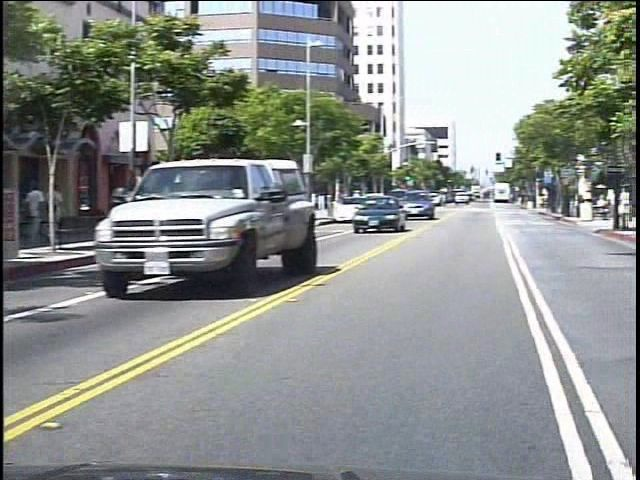person: (35, 178, 57, 243), (53, 181, 75, 245)
